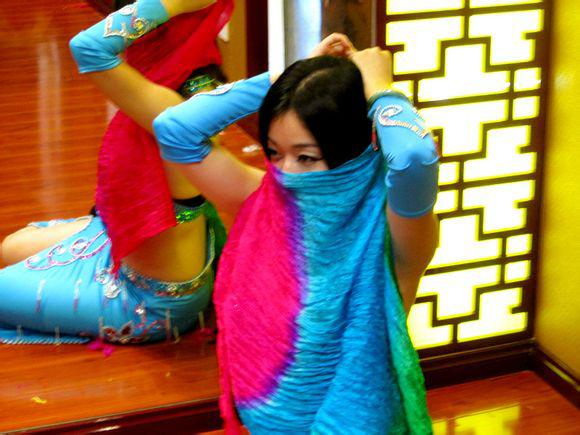OK: (265, 133, 339, 207)
